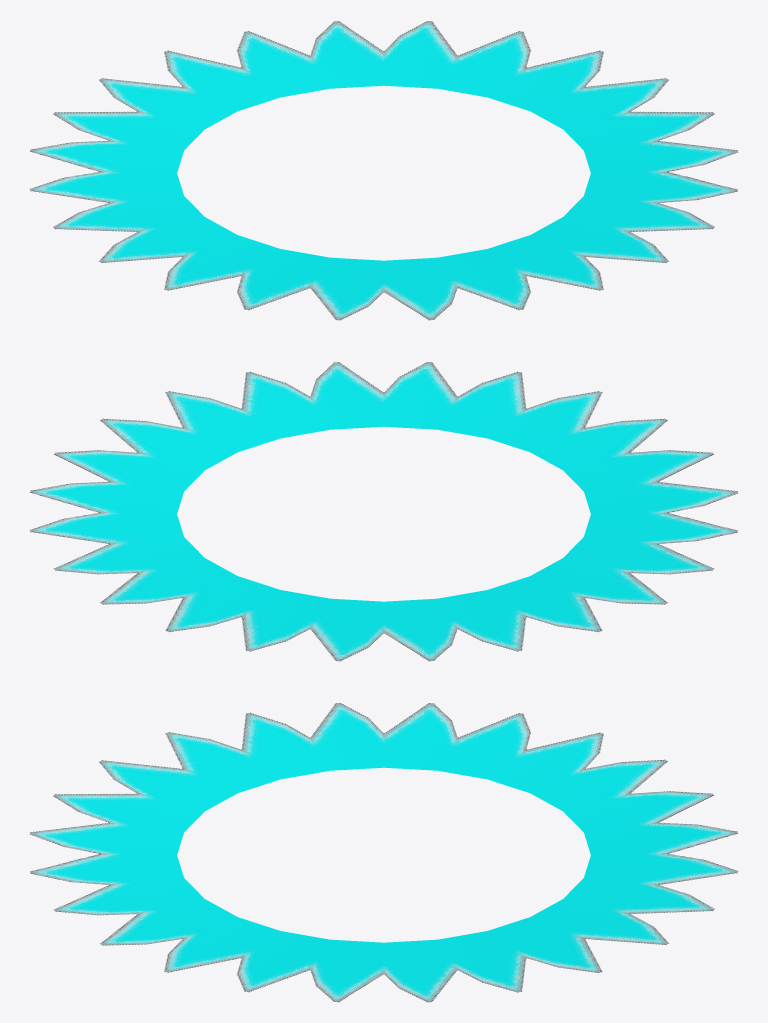
The model's file is Flames.fbx.
The picture shows the model from 3 angles, top to bottom: view 1: azimuth 30°, elevation 25°; view 2: azimuth 150°, elevation 25°; view 3: azimuth 270°, elevation 25°; orthographic projection.
Parts seen in each view (by area): view 1: Flames; view 2: Flames; view 3: Flames.
Boxes of the visible parts, x1,y1,x2,y2 form: Flames: [30, 21, 738, 320]; Flames: [30, 362, 738, 661]; Flames: [29, 703, 737, 1002].
Bounding box in the file's own units: 1.01 × 0.0041 × 1.01.
Materials: 1 (1 with a texture image).
